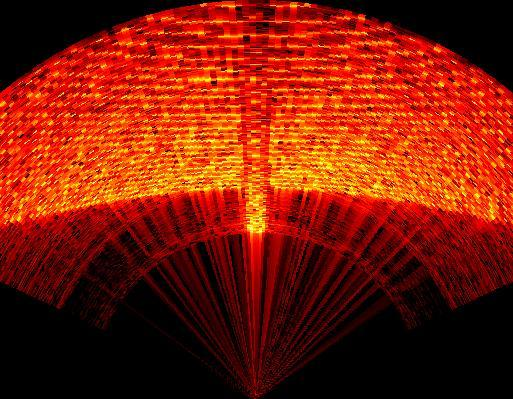pipe: (241, 5, 272, 232)
